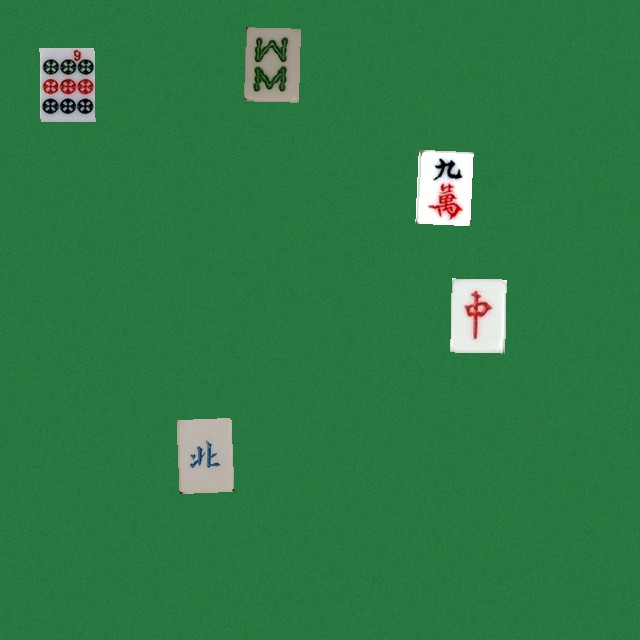tile: (176, 417, 231, 491), (415, 149, 470, 223), (450, 278, 505, 352), (39, 47, 94, 121), (243, 27, 298, 101)
